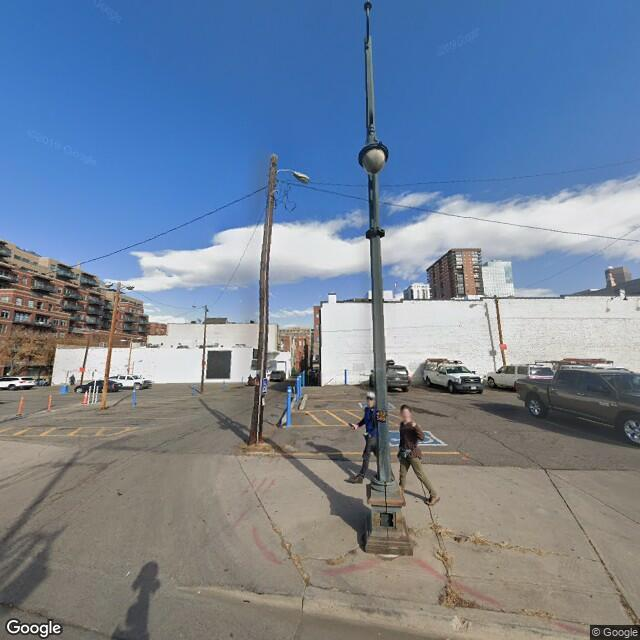lamp: (353, 3, 413, 551)
